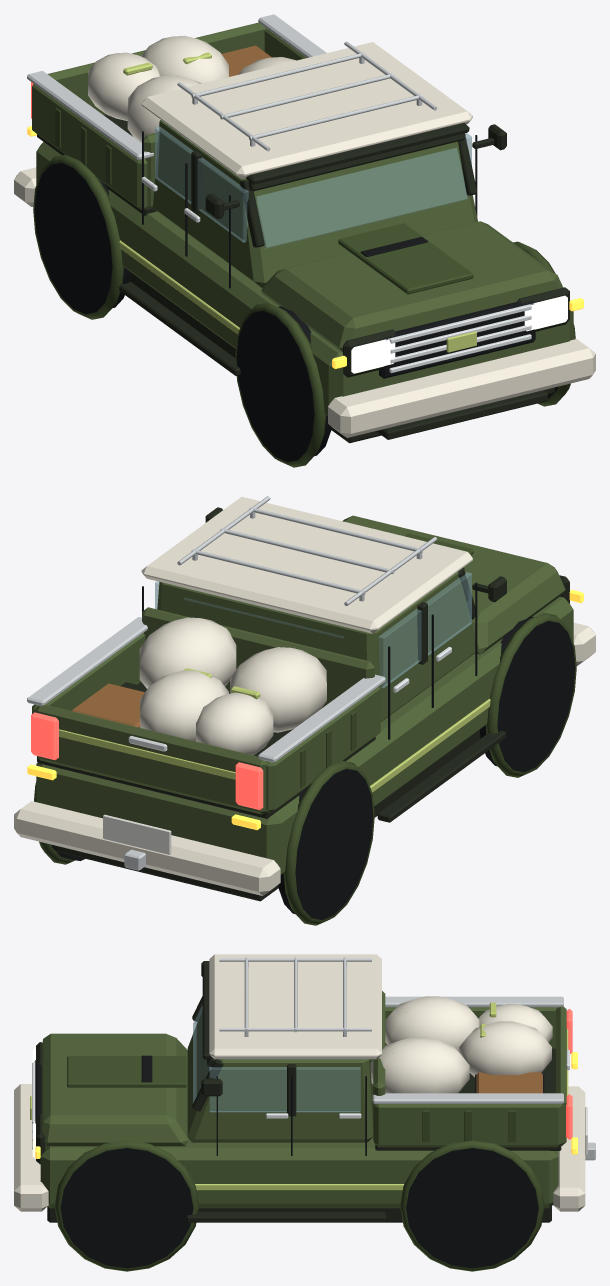
Rendered from pickup.glb.
3 renders of one model, top to bottom at view 1: azimuth 30°, elevation 25°; view 2: azimuth 150°, elevation 25°; view 3: azimuth 270°, elevation 25°, orthographic. The views are drawn at different scales.
Parts seen in each view (by area): view 1: PickupBody; view 2: PickupBody; view 3: PickupBody.
Part boxes in pixels (bbox=[...]): PickupBody: bbox=[14, 14, 595, 467]; PickupBody: bbox=[14, 496, 595, 925]; PickupBody: bbox=[14, 954, 595, 1271].
Bounding box in the file's own units: 2.17 × 1.88 × 4.38.
